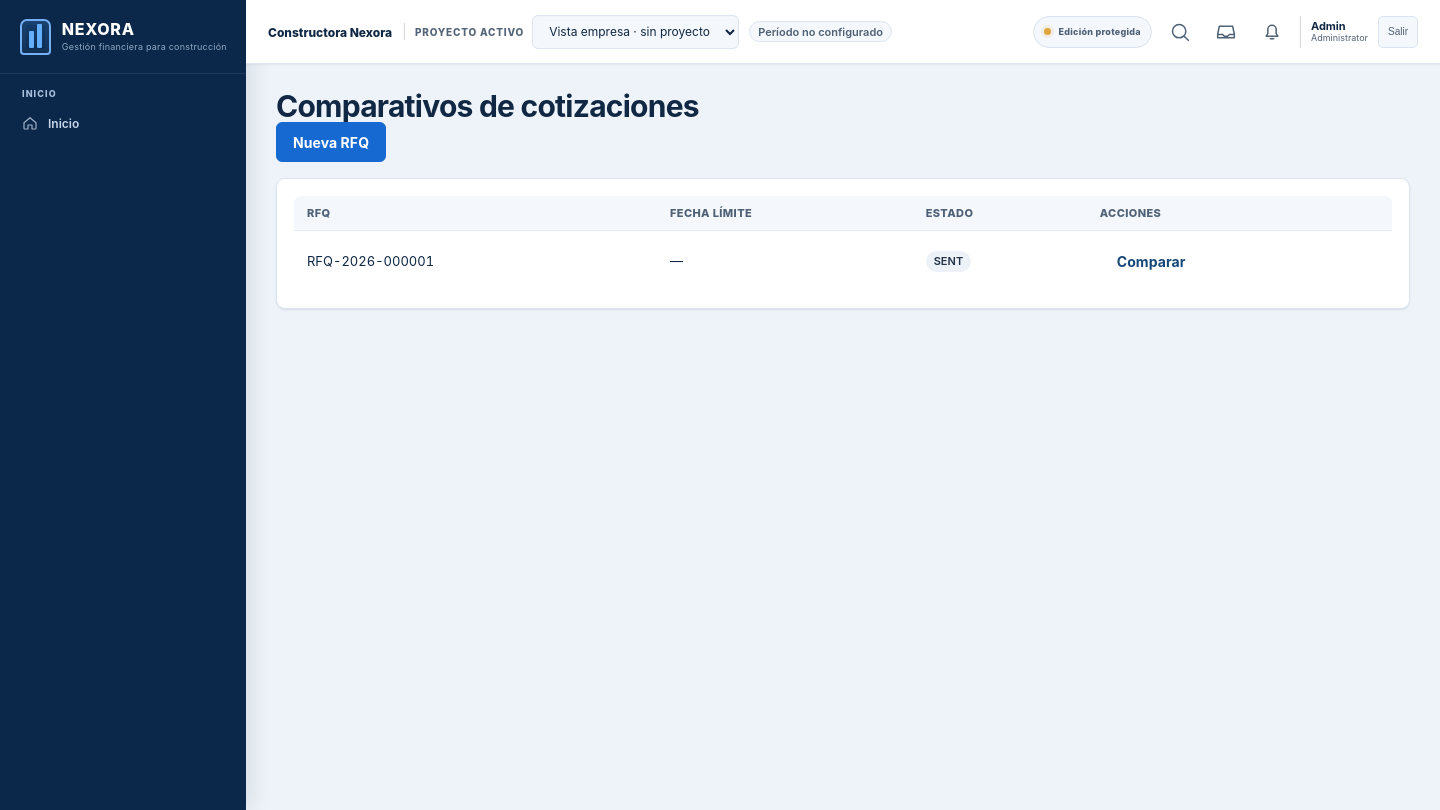
Scenario: BidComparisonPage › selects a winning quotation and creates a real purchase order from it
Step 1. Click the button "Comparar" → (1151, 261), box left=1100, top=241, right=1202, bottom=281
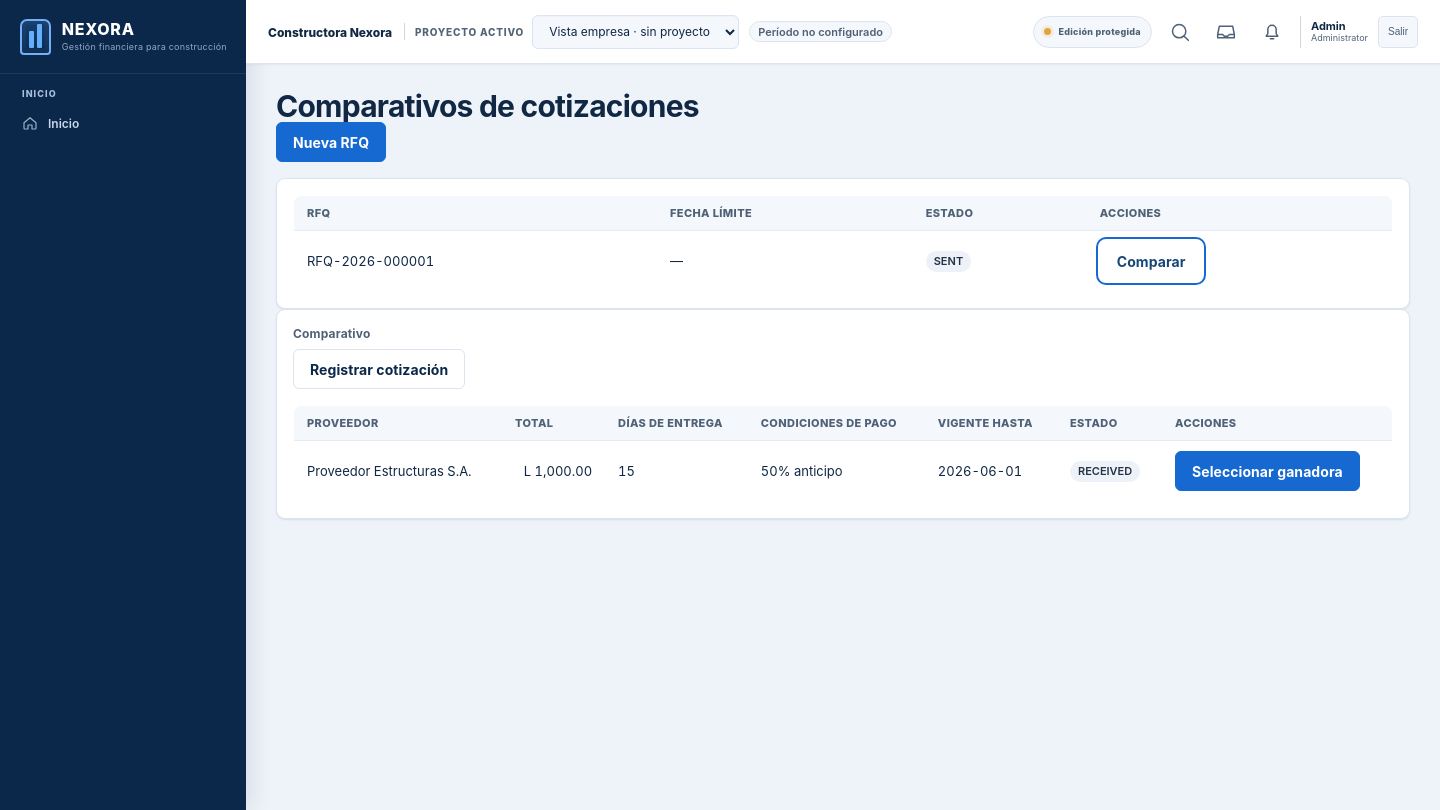
Now the text "L 1,000.00" is shown, box left=502, top=441, right=605, bottom=502
Step 2. Click the button "Seleccionar ganadora" → (1267, 471), box left=1175, top=451, right=1360, bottom=491
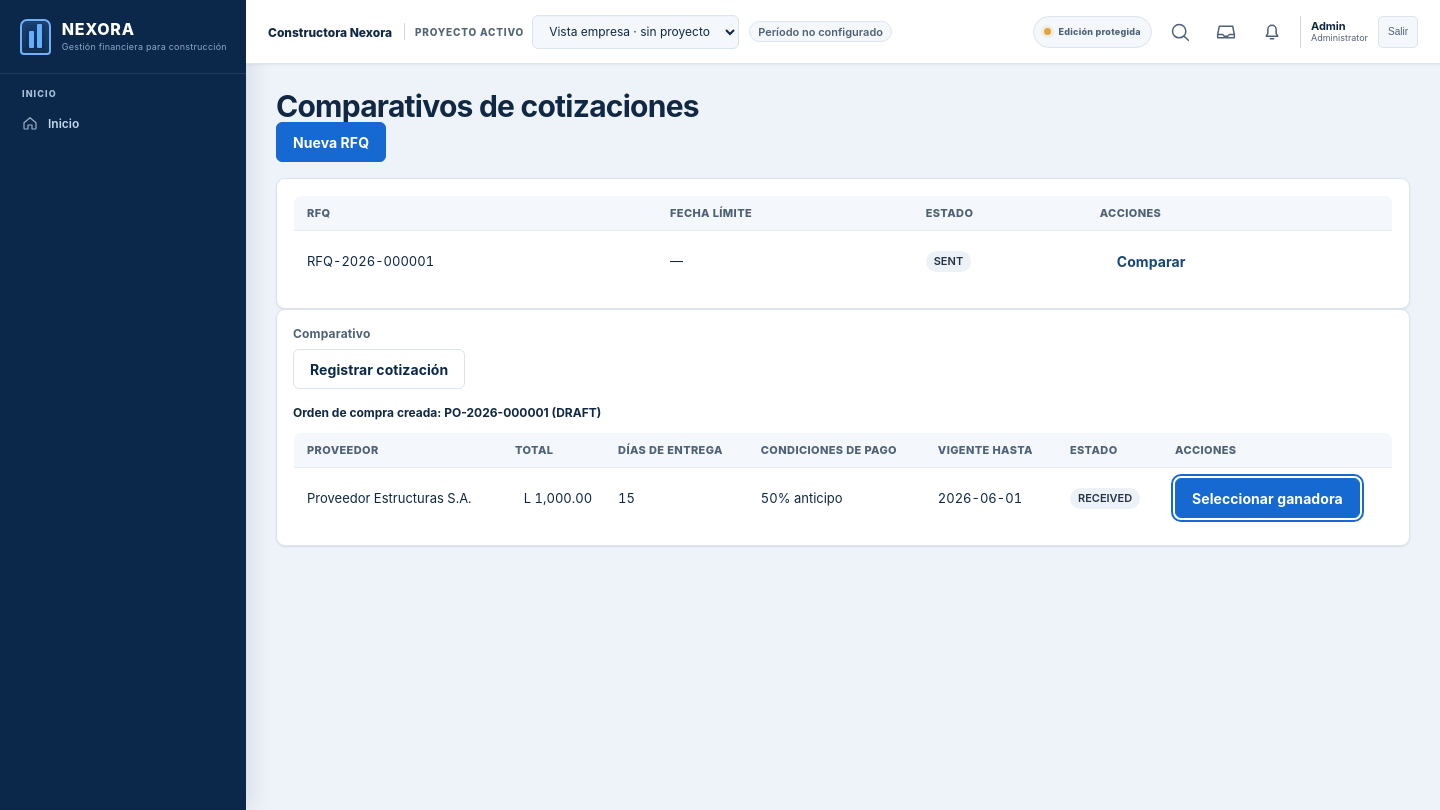
Now the text "Orden de compra creada: PO-2026-000001 (DRAFT)" is shown, box left=293, top=405, right=601, bottom=420
